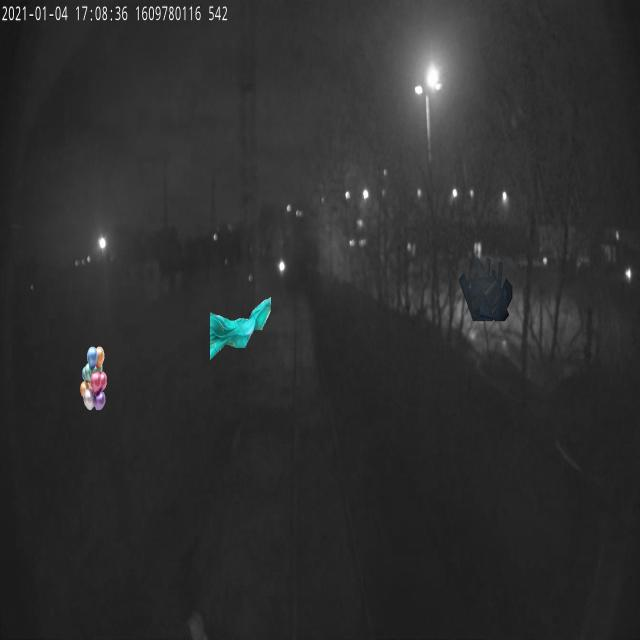balloon: (80, 346, 107, 410)
floating object: (209, 296, 271, 361)
plastic bag: (458, 257, 512, 321)
